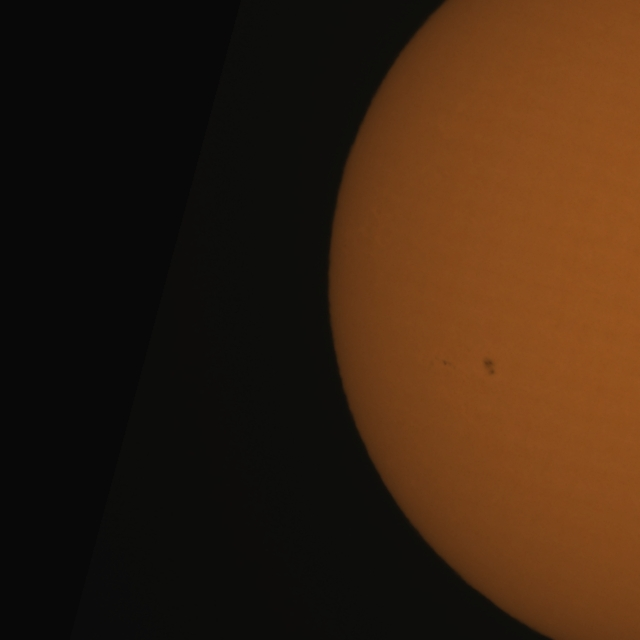sunspot: (481, 356, 497, 377), (441, 358, 452, 367)
